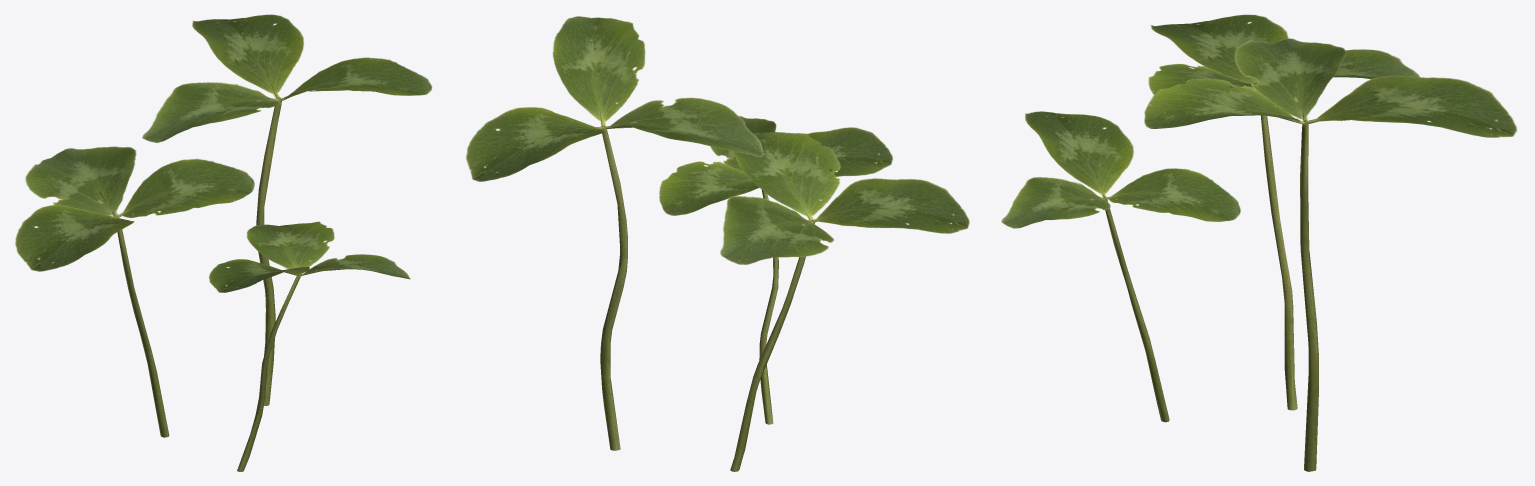
The model's file is clover-clump.glb.
3 renders of one model, left to right at view 1: azimuth 30°, elevation 25°; view 2: azimuth 150°, elevation 25°; view 3: azimuth 270°, elevation 25°, orthographic. The views are drawn at different scales.
Visible parts, largest first — view 1: clover_spring_hero_clover_spring_0; view 2: clover_spring_hero_clover_spring_0; view 3: clover_spring_hero_clover_spring_0.
Boxes of the visible parts, x1,y1,x2,y2 form: clover_spring_hero_clover_spring_0: (15, 14, 431, 471); clover_spring_hero_clover_spring_0: (466, 16, 969, 471); clover_spring_hero_clover_spring_0: (1001, 14, 1517, 471).
Size of the model in its own units: 2.33 by 1.98 by 2.29.
Materials: 1 (1 with a texture image).
